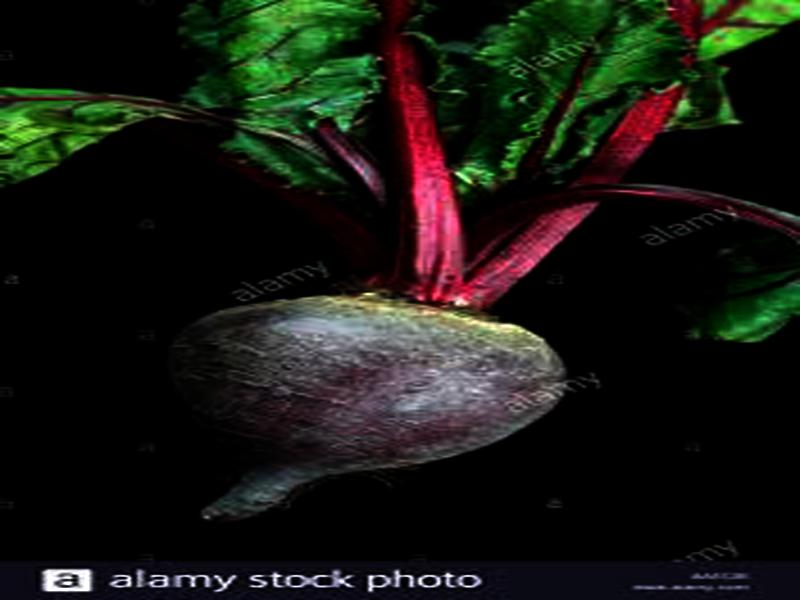Beet: (5, 2, 800, 521)
